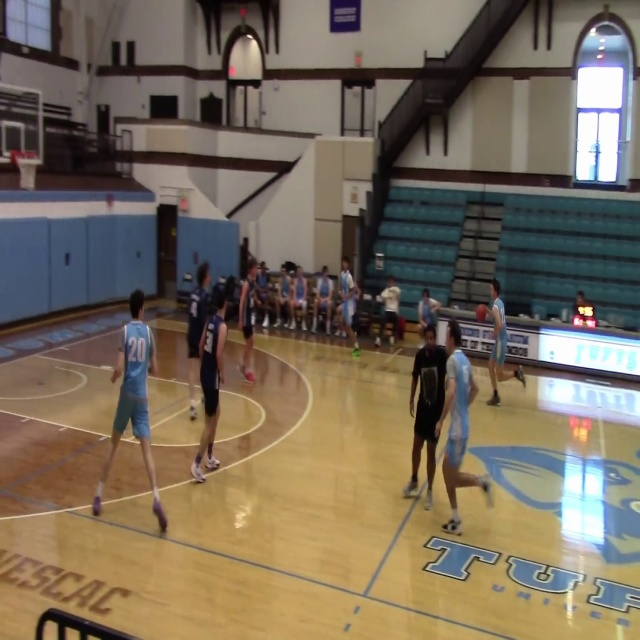Basketball: (475, 304, 487, 322)
